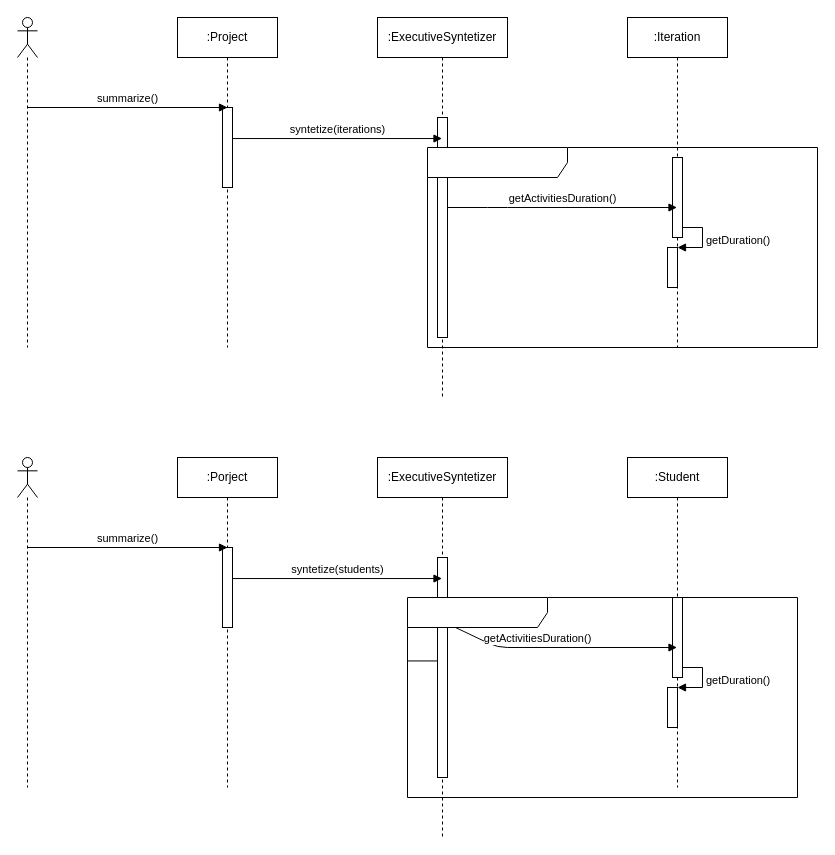
The diagram is 835 pixels wide and 855 high, and some of its shapes have lost their labels. The centre of each missing label's shape, as x and y in pixels:
loop [in iterations]: [622,247]
loop [in students]: [602,697]
